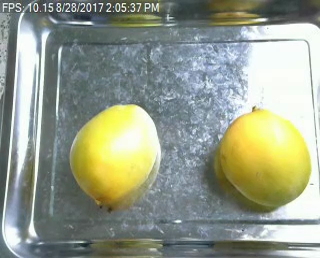Mango: (66, 103, 160, 207), (218, 109, 310, 209)
